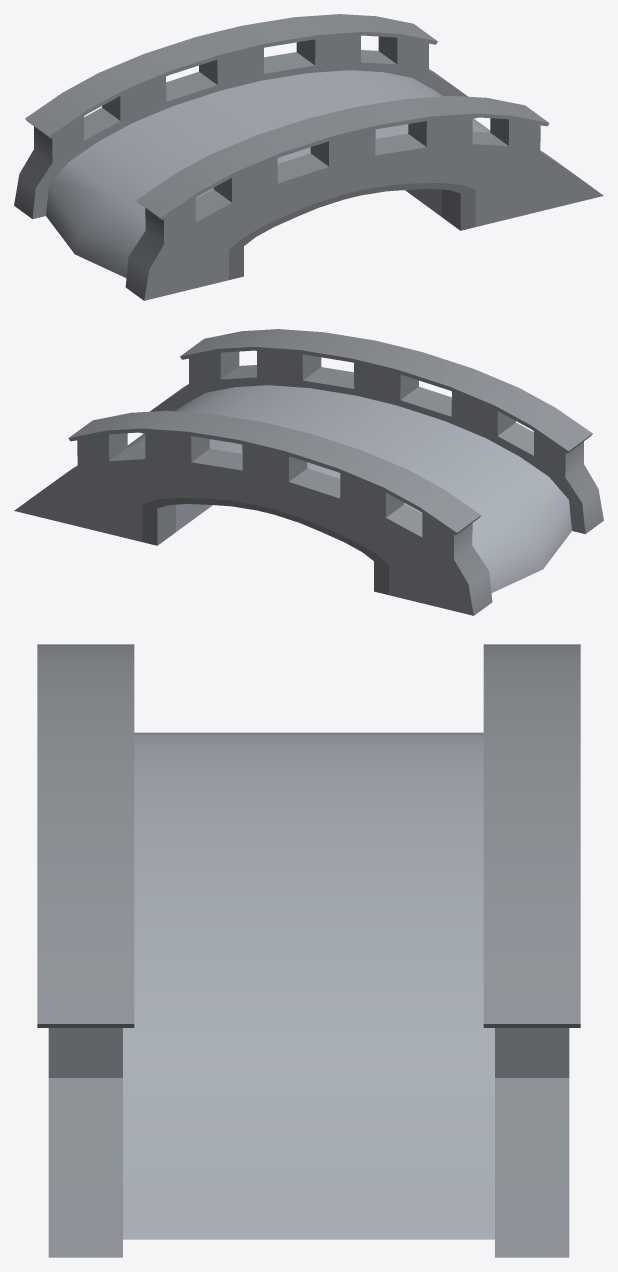
Rendered from Bridge_5.fbx.
3 views of the same model, one above another, from view 1: azimuth 30°, elevation 25°; view 2: azimuth 150°, elevation 25°; view 3: azimuth 270°, elevation 25° (orthographic). The views are drawn at different scales.
Parts seen in each view (by area): view 1: Bridge_5; view 2: Bridge_5; view 3: Bridge_5.
Part boxes in pixels (bbox=[...]): Bridge_5: bbox=[14, 14, 603, 300]; Bridge_5: bbox=[14, 329, 603, 615]; Bridge_5: bbox=[37, 644, 580, 1257].
Bounding box in the file's own units: 430 × 114 × 218.
